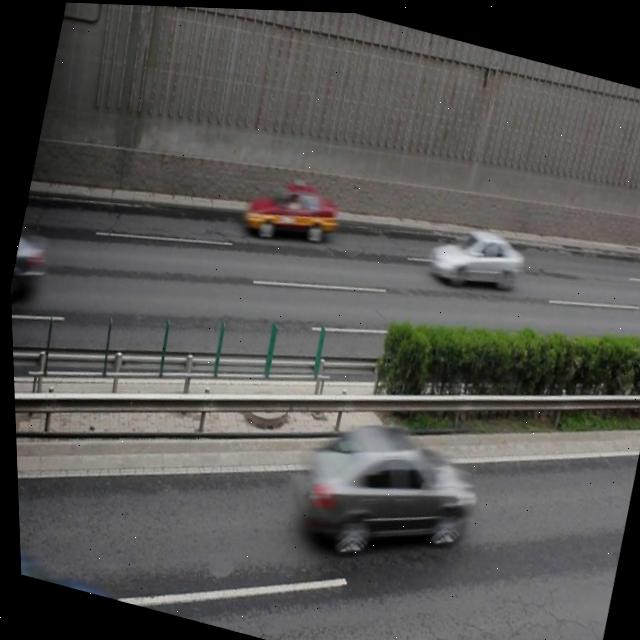car: (281, 401, 478, 569), (422, 212, 525, 296), (239, 169, 342, 251)
